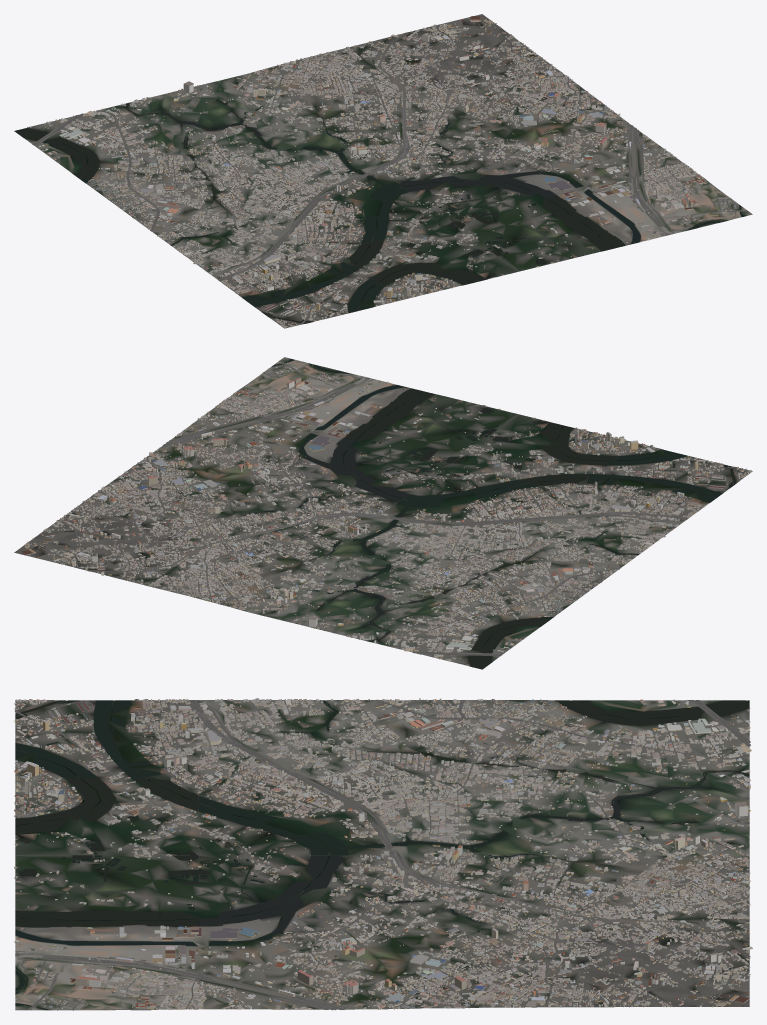
3 renders of one model, top to bottom at view 1: azimuth 30°, elevation 25°; view 2: azimuth 150°, elevation 25°; view 3: azimuth 270°, elevation 25°, orthographic. The views are drawn at different scales.
Visible parts, largest first — view 1: ground, buildings, water, roads; view 2: ground, buildings, water, roads; view 3: ground, buildings, water, roads.
Part boxes in pixels (bbox=[...]): ground: bbox=[14, 14, 752, 328]; buildings: bbox=[27, 16, 738, 328]; water: bbox=[14, 82, 745, 323]; roads: bbox=[32, 15, 747, 324]; ground: bbox=[14, 357, 752, 668]; buildings: bbox=[21, 362, 751, 666]; water: bbox=[158, 359, 736, 669]; roads: bbox=[16, 360, 739, 660]; ground: bbox=[15, 700, 749, 1010]; buildings: bbox=[14, 698, 752, 1009]; water: bbox=[15, 700, 749, 1010]; roads: bbox=[15, 699, 750, 1010].
Bounding box in the file's own units: 5632 × 91.88 × 5638.
